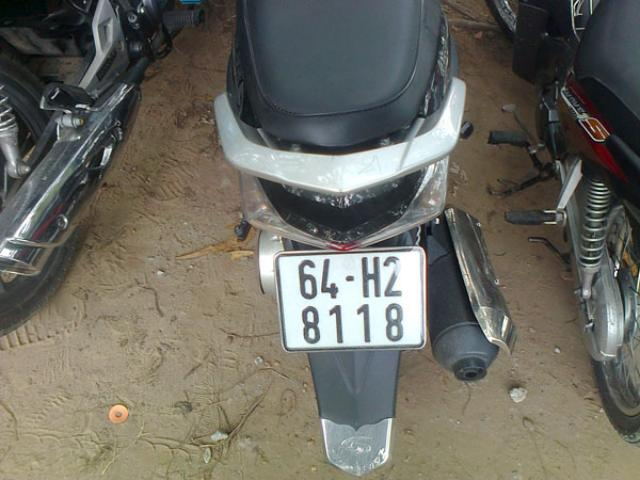plate: (276, 250, 424, 352)
